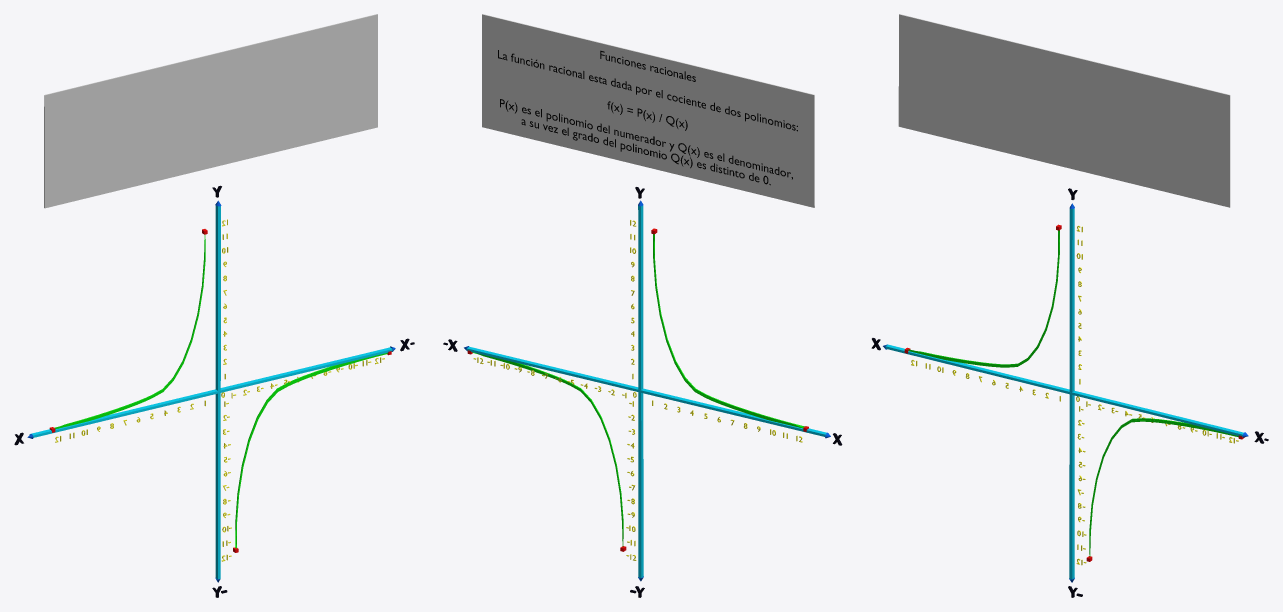
Rendered from f-racional.fbx.
3 renders of one model, left to right at view 1: azimuth 30°, elevation 25°; view 2: azimuth 150°, elevation 25°; view 3: azimuth 330°, elevation 25°, orthographic.
Visible parts, largest first — view 1: Cubo.003, Cubo.001, Cubo, Surface.002, Surface.003; view 2: Cubo.003, Text.087, Cubo.001, Cubo, Surface.002, Surface.003; view 3: Cubo.003, Cubo.001, Cubo, Surface.002, Surface.003.
Boxes of the visible parts, x1,y1,x2,y2 form: Cubo.003: [44, 14, 377, 208]; Cubo.001: [215, 206, 220, 579]; Cubo: [29, 347, 392, 437]; Surface.002: [53, 235, 205, 429]; Surface.003: [235, 353, 387, 548]; Cubo.003: [482, 14, 814, 207]; Text.087: [498, 50, 797, 185]; Cubo.001: [638, 205, 643, 577]; Cubo: [466, 346, 826, 436]; Surface.002: [653, 234, 805, 428]; Surface.003: [472, 352, 623, 546]; Cubo.003: [898, 14, 1230, 207]; Cubo.001: [1069, 208, 1074, 579]; Cubo: [885, 344, 1243, 436]; Surface.002: [907, 230, 1059, 367]; Surface.003: [1089, 418, 1238, 557].
Size of the model in its own units: 599 by 782 by 8.65.
